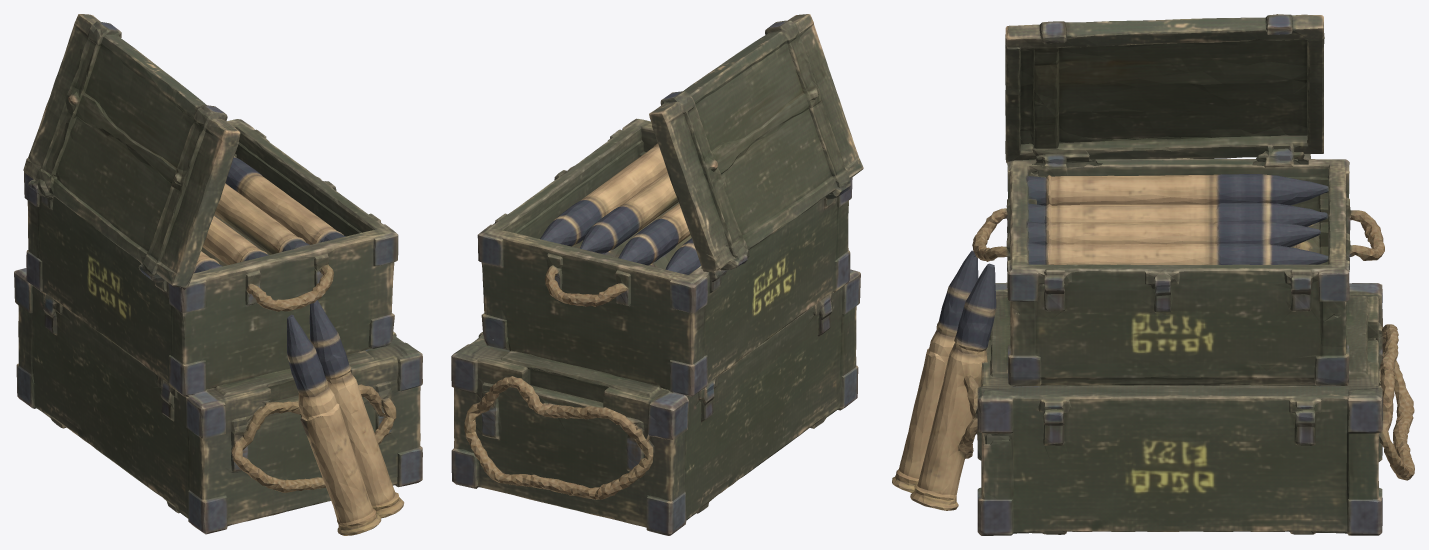
The model's file is ammocrate.obj.
3 views of the same model, side by side, from view 1: azimuth 30°, elevation 25°; view 2: azimuth 150°, elevation 25°; view 3: azimuth 270°, elevation 25° (orthographic). The views are drawn at different scales.
Parts seen in each view (by area): view 1: ammocrate; view 2: ammocrate; view 3: ammocrate.
Part boxes in pixels (x1=…): ammocrate: x1=14, y1=14, x2=422, y2=535; ammocrate: x1=451, y1=14, x2=863, y2=535; ammocrate: x1=892, y1=14, x2=1414, y2=535.
Size of the model in its own units: 0.718 by 1.1 by 1.2.
Materials: 1 (1 with a texture image).
